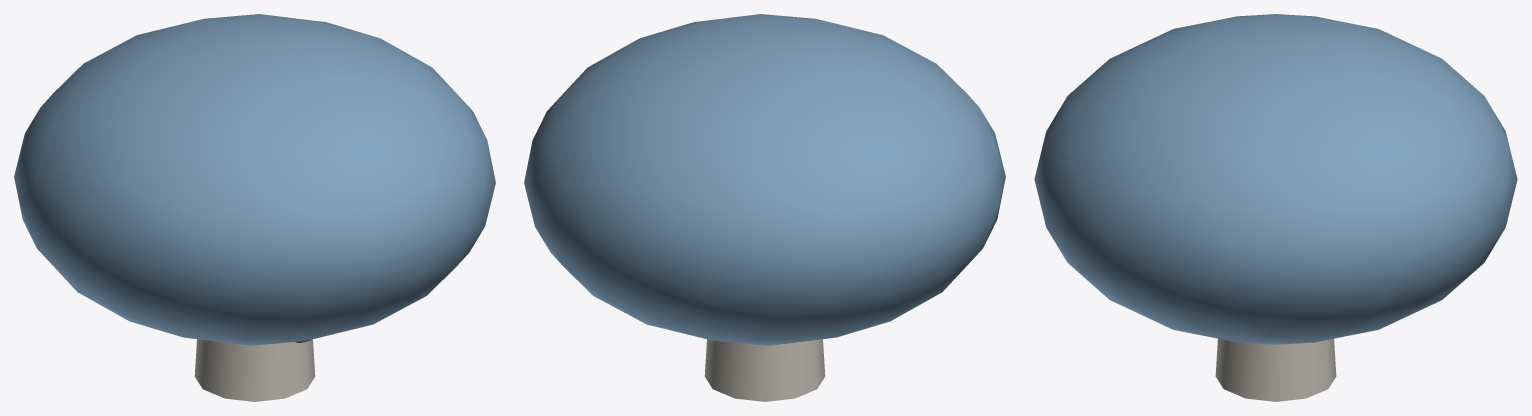
Rendered from stereum-versicolor.glb.
3 views of the same model, side by side, from view 1: azimuth 30°, elevation 25°; view 2: azimuth 150°, elevation 25°; view 3: azimuth 270°, elevation 25° (orthographic).
Parts seen in each view (by area): view 1: cap, stalk; view 2: cap, stalk; view 3: cap, stalk.
Part boxes in pixels (<box>): cap: <box>14,14,495,345</box>; stalk: <box>194,339,315,401</box>; cap: <box>524,14,1005,345</box>; stalk: <box>704,339,825,401</box>; cap: <box>1034,14,1517,344</box>; stalk: <box>1215,338,1336,401</box>.
Size of the model in its own units: 0.4 by 0.3 by 0.4.
